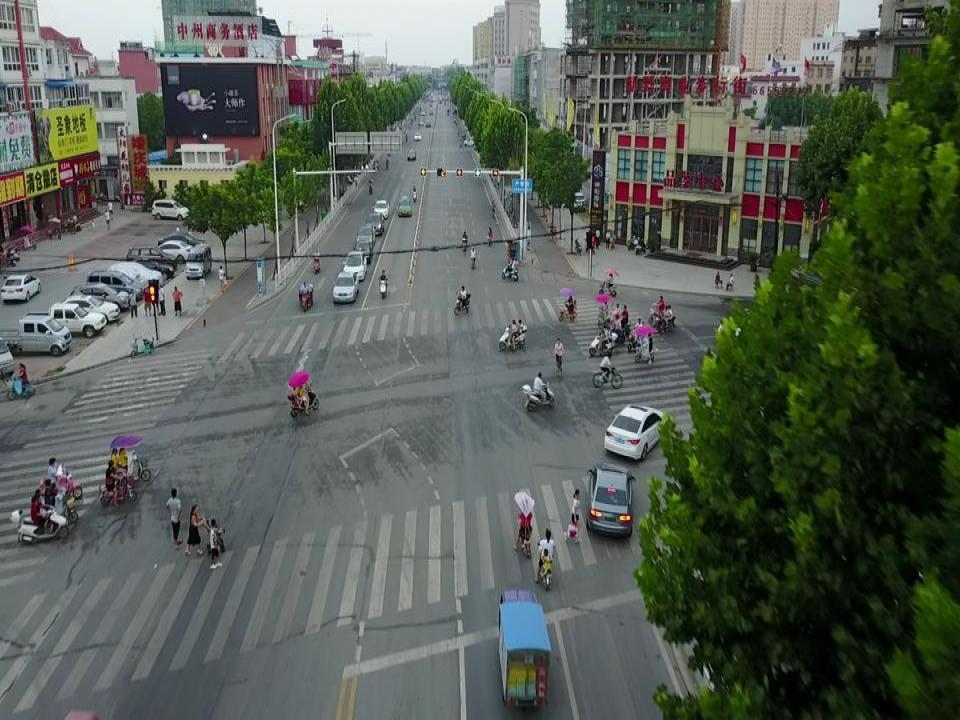car: (586, 464, 636, 537), (604, 404, 668, 460), (718, 308, 795, 349), (105, 262, 163, 294), (54, 294, 120, 322), (158, 232, 206, 256), (1, 274, 41, 302), (149, 240, 194, 264), (124, 259, 174, 280), (333, 272, 359, 303), (565, 191, 586, 213), (353, 240, 373, 263), (356, 225, 375, 248), (372, 200, 389, 219), (397, 196, 412, 217), (407, 149, 416, 160), (414, 132, 421, 141)
truck: (0, 315, 72, 356), (22, 303, 107, 337)
van: (73, 281, 130, 312), (126, 244, 177, 271), (152, 198, 190, 222), (186, 243, 212, 277), (342, 251, 367, 280), (365, 212, 385, 235), (464, 137, 477, 147)
